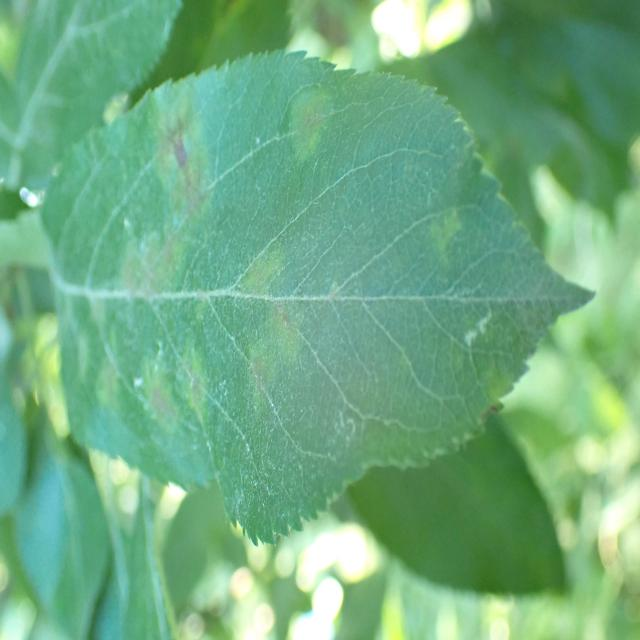scab: (72, 89, 550, 515)
